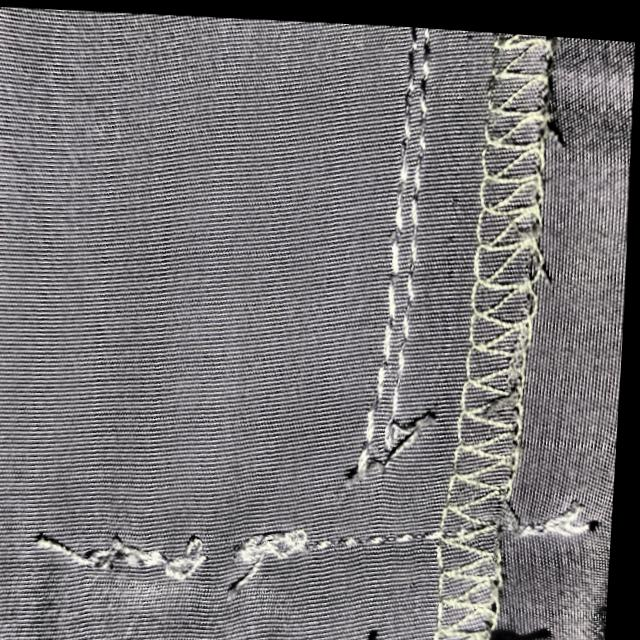Stitch: (329, 350, 430, 590), (138, 481, 284, 609)
